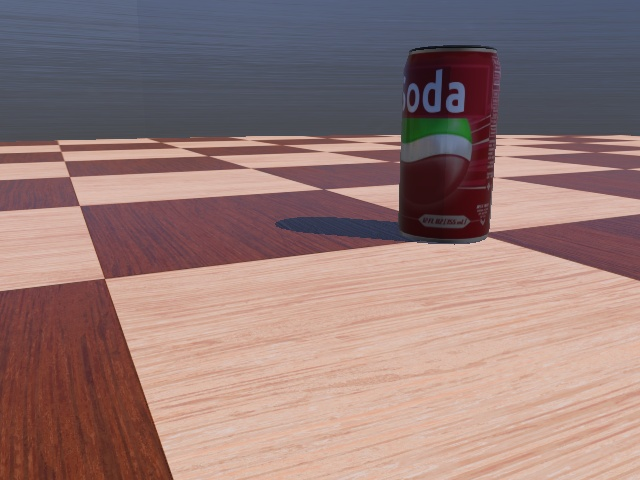lon_nuoc: (400, 43, 500, 242)
